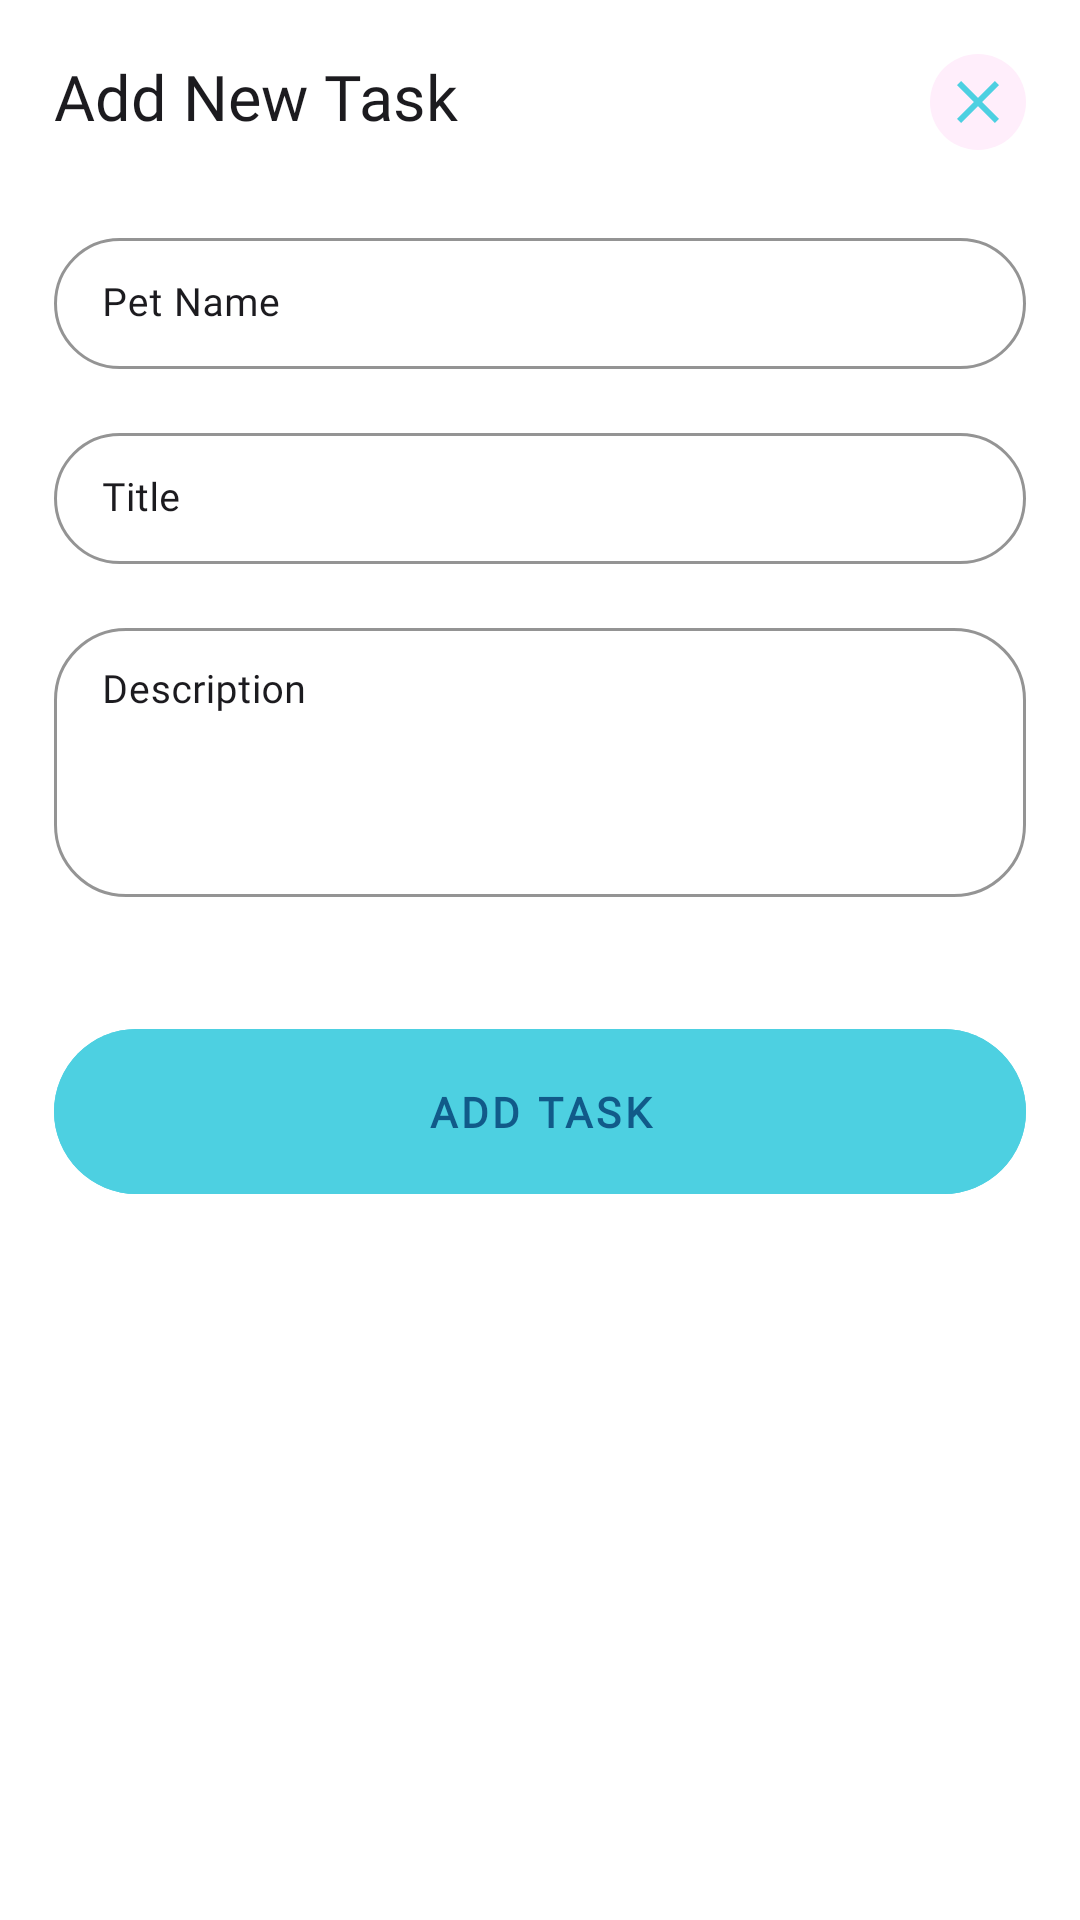

Icons on this 1080w x 1920h Android screen, each with the point to tap as (x=x, y=y):
close: (x=978, y=102)
